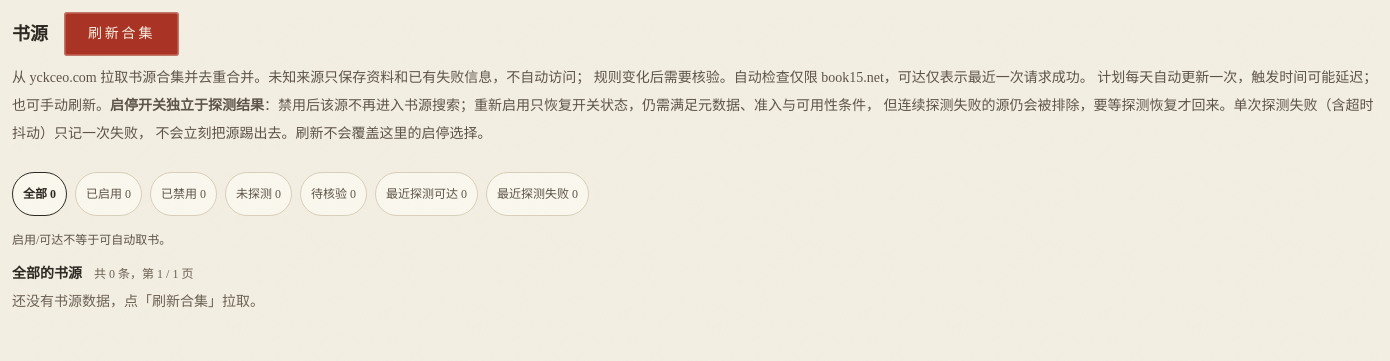
Test: does not present a read retry for a POST failure after a successful initial read
The image size is (1390, 361).
Expected: the element named "按状态筛选书源" is shown, [12,172,589,216]
Click the button "刷新合集".
click(122, 34)  # box [64,12,179,56]
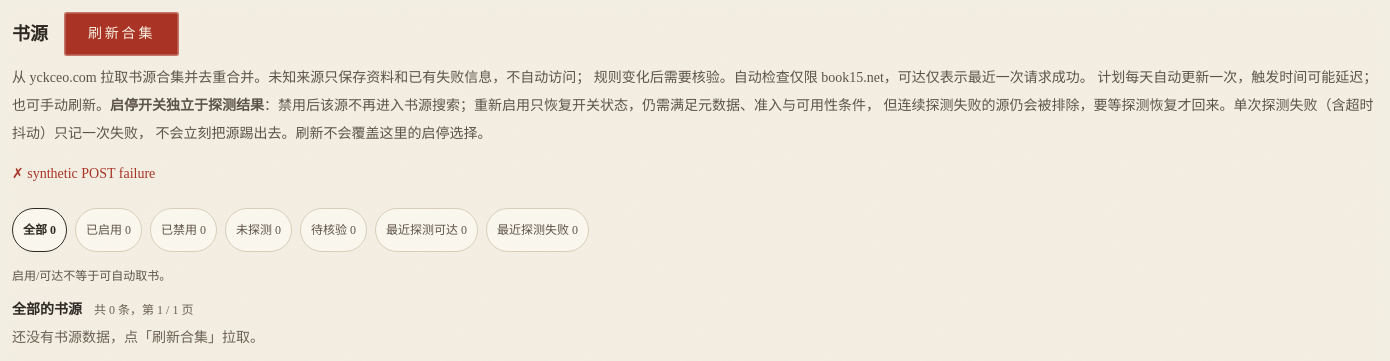
Expected: the message shows "synthetic POST failure", [27,166,155,181]
